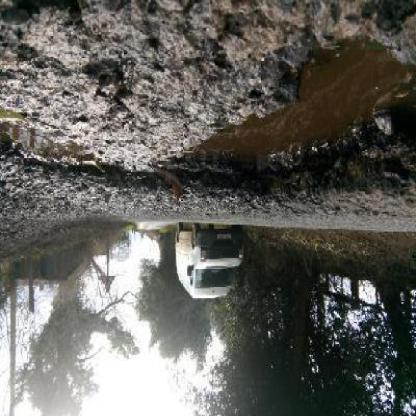pothole: (1, 25, 416, 202)
